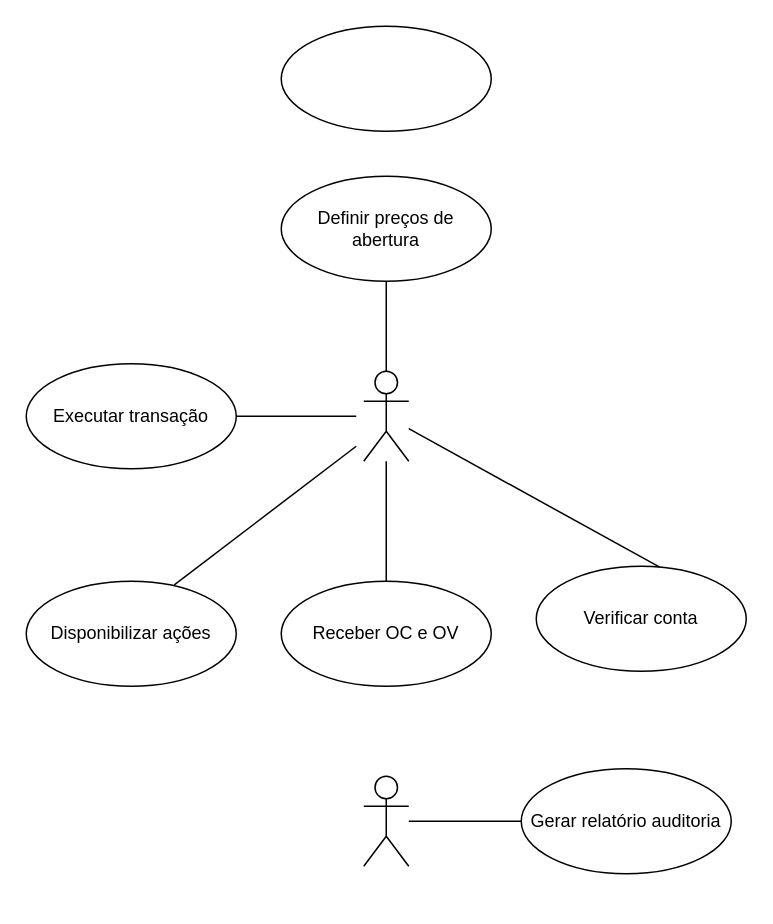
Image size: 773x924. Some labels were removed from this diagram. Here are the shapes that lost their labels. From the top down, the centre of each, then its label:
At point 385,78: "Gerar relatório consolidado".
At point 385,415: "Market".
At point 385,820: "Auditor".
